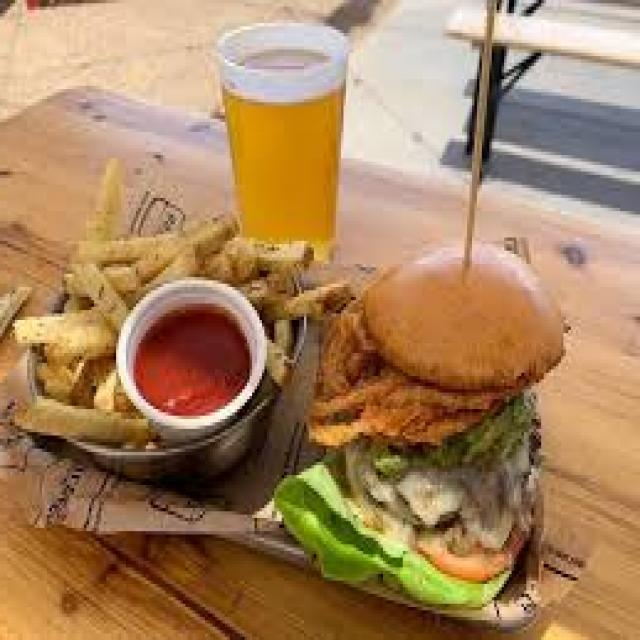Burger: (284, 228, 571, 607)
French Fries: (20, 201, 301, 455)
